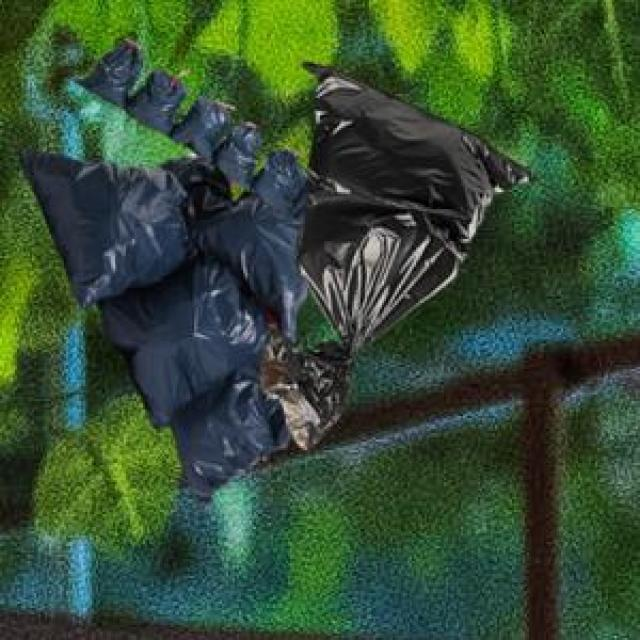Vinyl: (24, 41, 529, 497)
